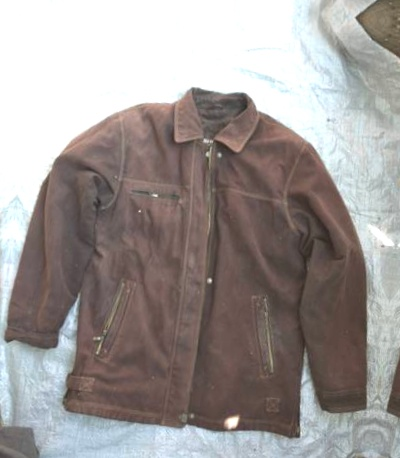Blazer: (0, 61, 399, 457), (0, 17, 27, 413), (385, 108, 400, 458)
